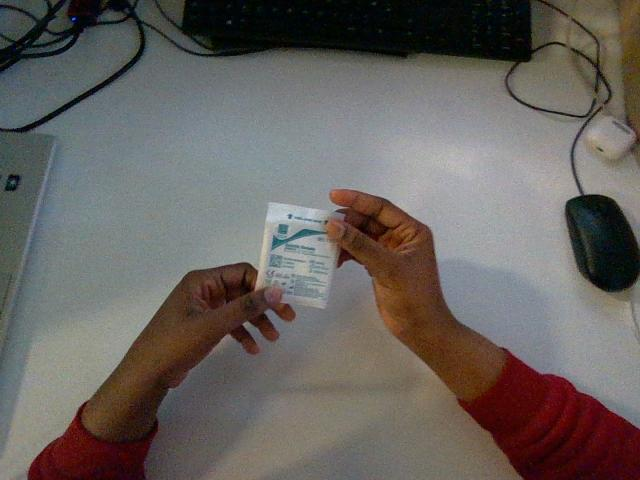gauze: (256, 203, 343, 307)
